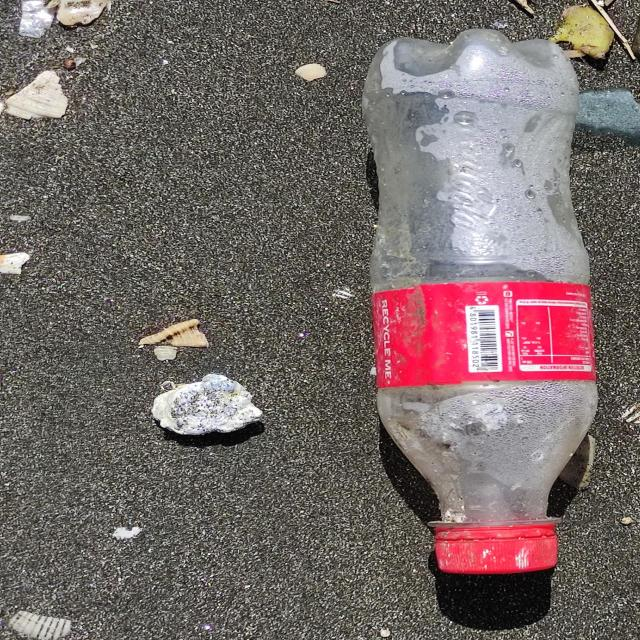plastic_waste: (361, 30, 603, 577)
styrofoam_waste: (154, 370, 268, 435)
